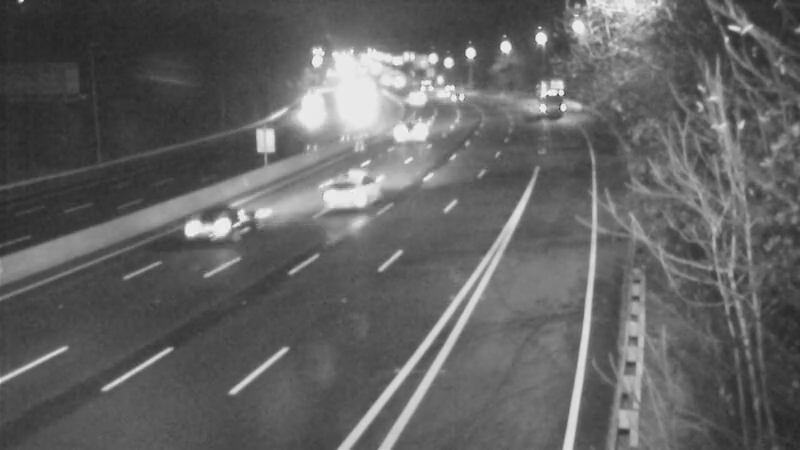vehicle: (315, 155, 395, 235), (168, 184, 248, 264), (417, 68, 467, 118), (430, 73, 480, 123), (516, 75, 566, 125), (387, 102, 437, 152), (275, 82, 325, 132)
